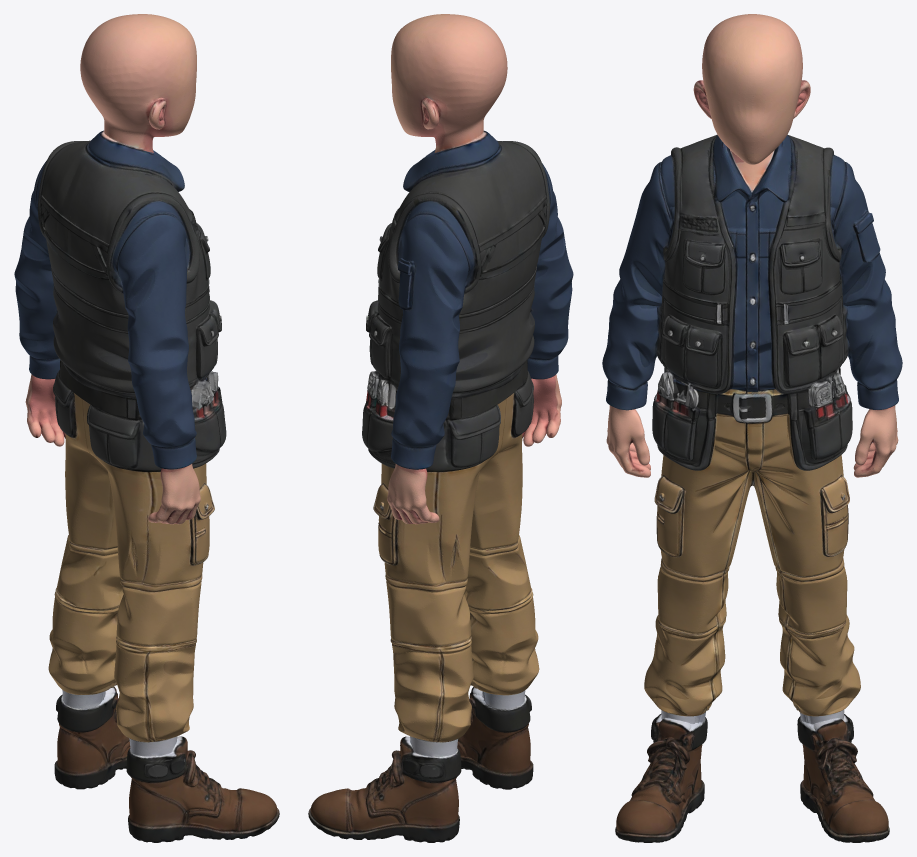
The model's file is utility+vest+3d+model.glb.
The picture shows the model from 3 angles, left to right: view 1: azimuth 30°, elevation 25°; view 2: azimuth 150°, elevation 25°; view 3: azimuth 270°, elevation 25°; orthographic projection.
Parts seen in each view (by area): view 1: tripo_node_336a8b86-e077-405a-840c-89e528c4e529; view 2: tripo_node_336a8b86-e077-405a-840c-89e528c4e529; view 3: tripo_node_336a8b86-e077-405a-840c-89e528c4e529.
Boxes of the visible parts, left/top/right/bottom form: tripo_node_336a8b86-e077-405a-840c-89e528c4e529: left=14, top=14, right=279, bottom=842; tripo_node_336a8b86-e077-405a-840c-89e528c4e529: left=308, top=14, right=573, bottom=842; tripo_node_336a8b86-e077-405a-840c-89e528c4e529: left=602, top=14, right=902, bottom=842.
Size of the model in its own units: 0.2069 by 0.9998 by 0.3444.
1 material, 1 textured.
